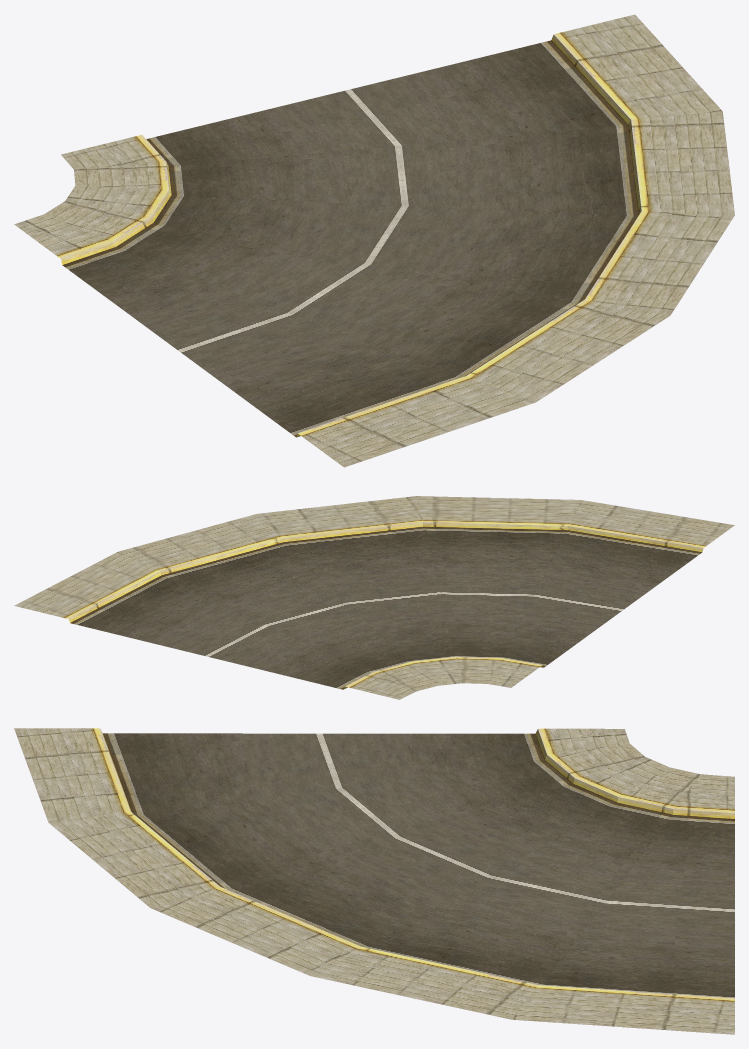
File: Road3_Turn_A.fbx
3 views of the same model, one above another, from view 1: azimuth 30°, elevation 25°; view 2: azimuth 150°, elevation 25°; view 3: azimuth 270°, elevation 25° (orthographic). The views are drawn at different scales.
Parts seen in each view (by area): view 1: Road_Turn_A; view 2: Road_Turn_A; view 3: Road_Turn_A.
Boxes of the visible parts, x1,y1,x2,y2 form: Road_Turn_A: [14, 14, 734, 467]; Road_Turn_A: [14, 496, 734, 699]; Road_Turn_A: [14, 728, 734, 1034].
Bounding box in the file's own units: 2680 × 20.38 × 2663.
